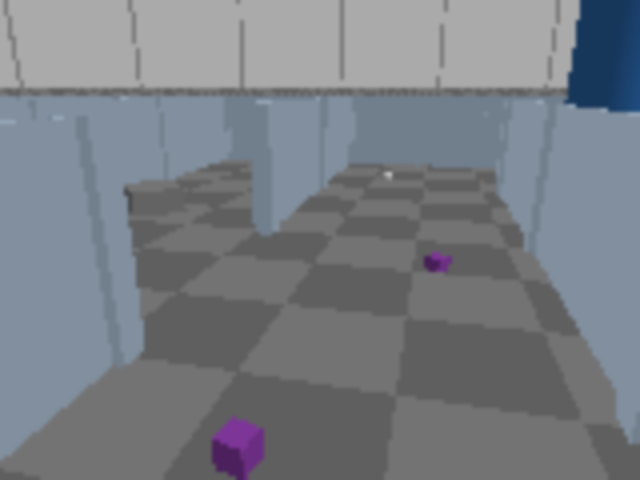puck: (212, 417, 264, 478), (424, 252, 451, 273)
